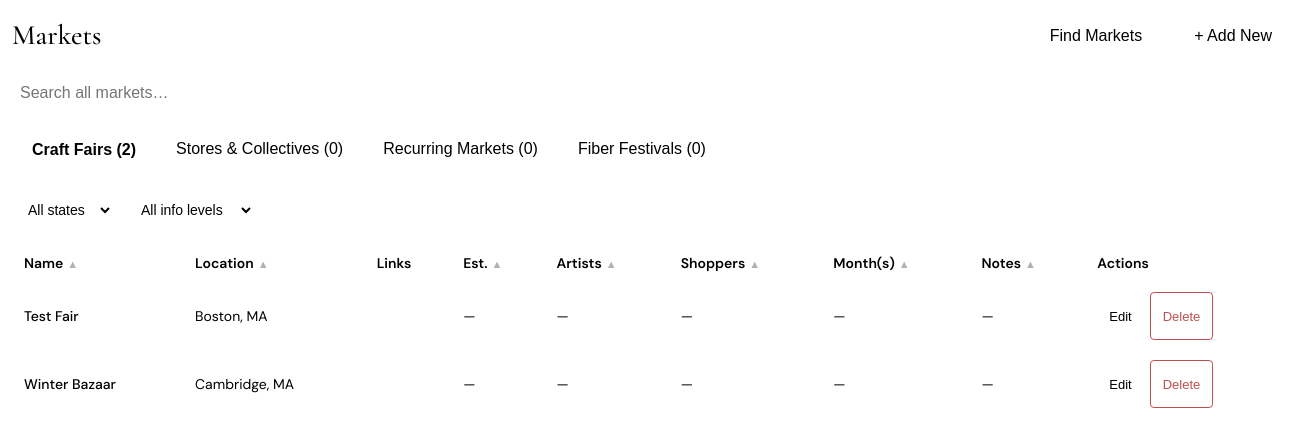
Test: MarketsManager › search filters the active tab
Type "Winter" into the search field at x=212, y=93, box x1=12 y1=76 x2=412 y2=110
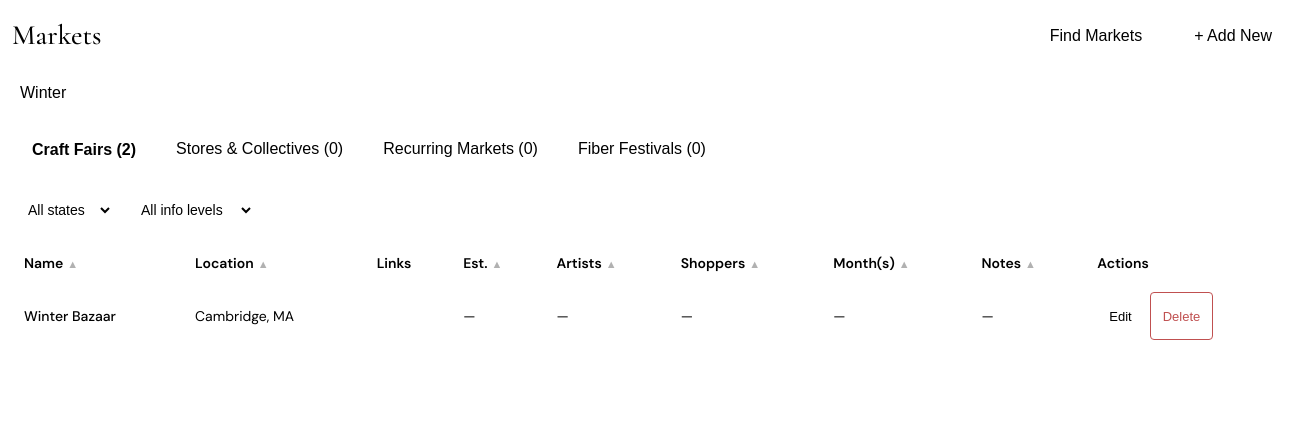
Expected: the text "Winter Bazaar" is shown, x1=12 y1=282 x2=183 y2=350
Expected: the text "Test Fair" is gone
